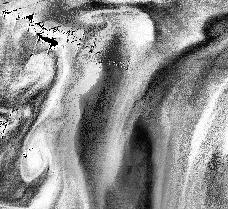CE: (18, 132, 53, 185)
